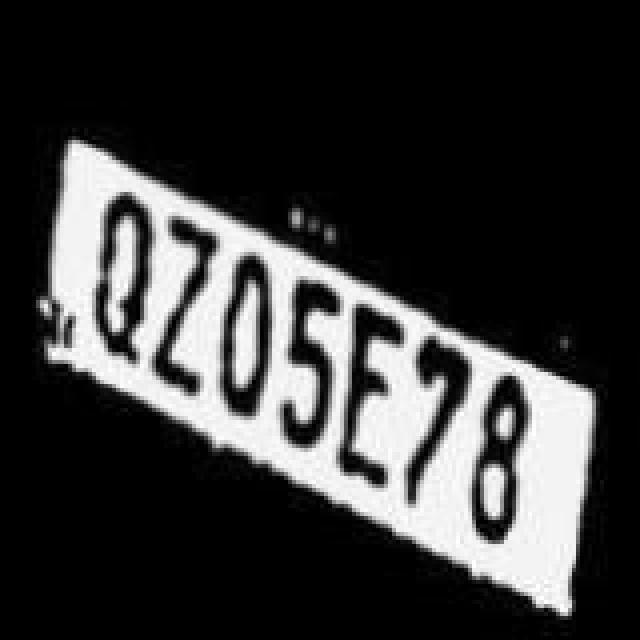5: (280, 242, 340, 466)
7: (398, 336, 466, 520)
8: (468, 372, 540, 568)
E: (340, 300, 404, 496)
O: (212, 242, 272, 430)
Q: (92, 188, 152, 372)
Z: (148, 210, 216, 414)
